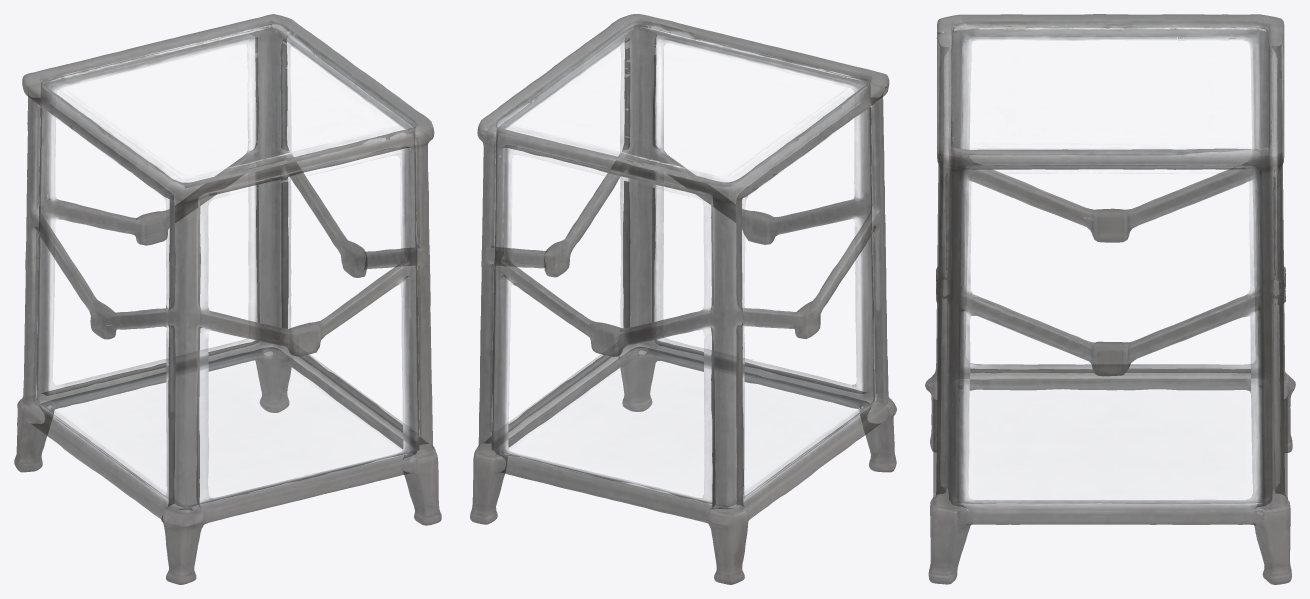
Rendered from minidesk1.glb.
3 renders of one model, left to right at view 1: azimuth 30°, elevation 25°; view 2: azimuth 150°, elevation 25°; view 3: azimuth 270°, elevation 25°, orthographic. The views are drawn at different scales.
Parts seen in each view (by area): view 1: tripo_node_f93a3be7; view 2: tripo_node_f93a3be7; view 3: tripo_node_f93a3be7.
Boxes of the visible parts, box(x1,y1,x2,y2) form: tripo_node_f93a3be7: box(14, 14, 441, 584); tripo_node_f93a3be7: box(470, 14, 896, 584); tripo_node_f93a3be7: box(925, 14, 1295, 584).
Size of the model in its own units: 0.5348 by 0.7309 by 0.5706.
Materials: 1 (1 with a texture image).
